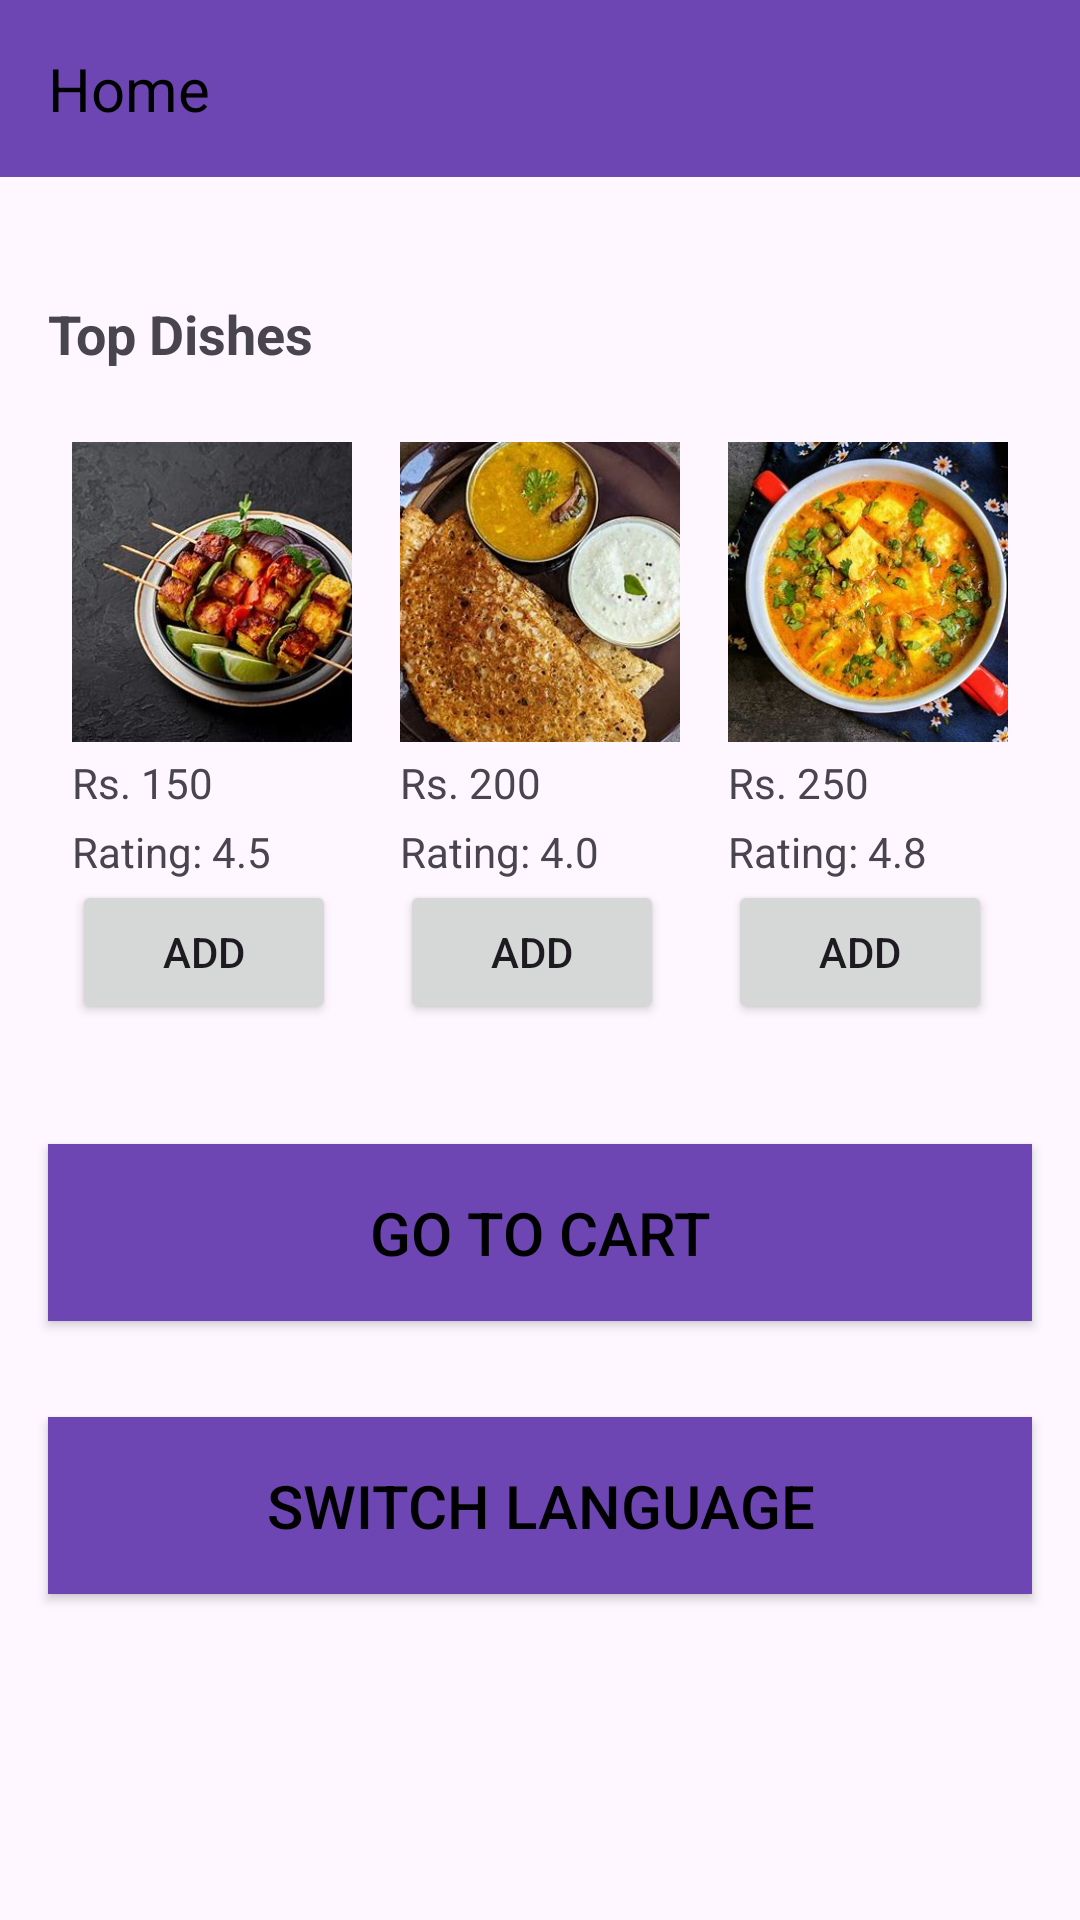

Icon click points for this 1080x1920 phone screenshot, format (x=x, y=y):
dosa: (x=540, y=592)
matar paneer: (x=868, y=592)
paneer tikka: (x=212, y=592)
